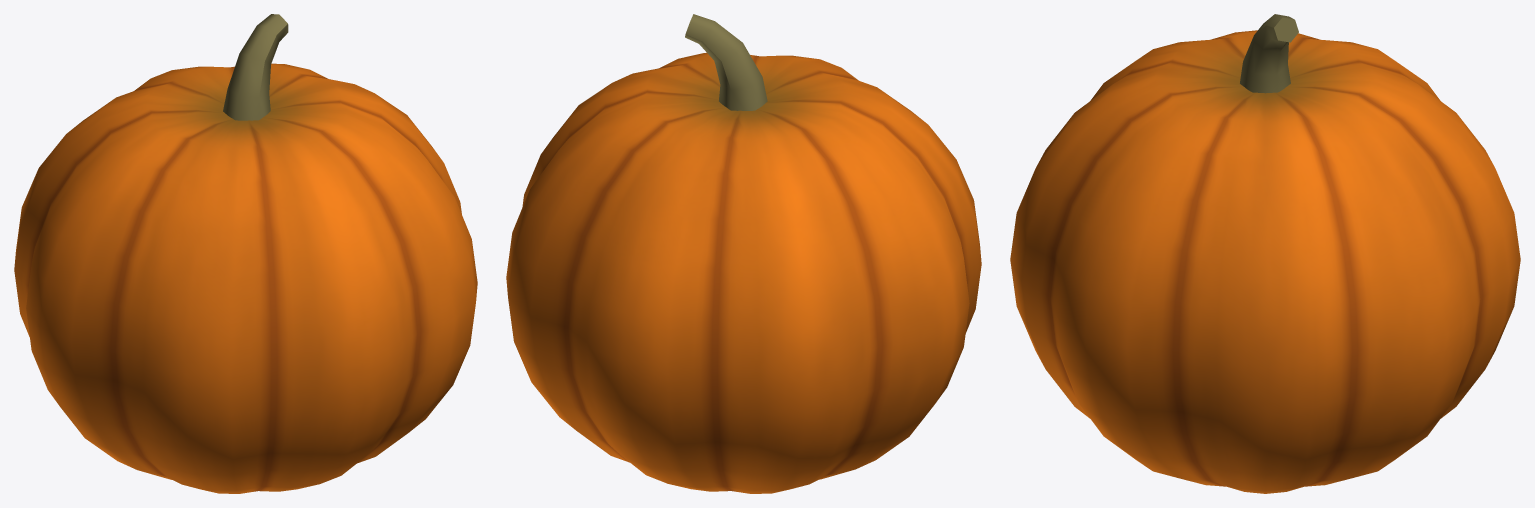
The model's file is pumpkin_small.glb.
The picture shows the model from 3 angles, left to right: view 1: azimuth 30°, elevation 25°; view 2: azimuth 150°, elevation 25°; view 3: azimuth 270°, elevation 25°; orthographic projection. The views are drawn at different scales.
Visible parts, largest first — view 1: pumpkin_small; view 2: pumpkin_small; view 3: pumpkin_small.
Boxes of the visible parts, x1,y1,x2,y2 form: pumpkin_small: (14,14,477,493); pumpkin_small: (506,14,981,493); pumpkin_small: (1010,14,1520,493).
Bounding box in the file's own units: 0.22 × 0.2186 × 0.22.
2 materials, 1 textured.
